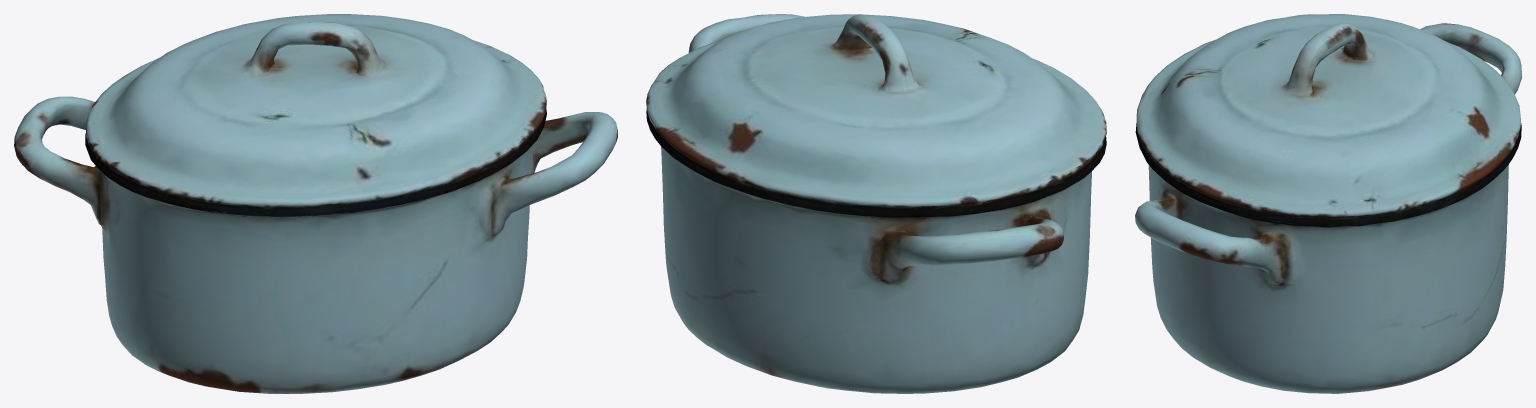
Rendered from olla.glb.
The picture shows the model from 3 angles, left to right: view 1: azimuth 30°, elevation 25°; view 2: azimuth 150°, elevation 25°; view 3: azimuth 270°, elevation 25°; orthographic projection. The views are drawn at different scales.
Parts seen in each view (by area): view 1: geometry_0; view 2: geometry_0; view 3: geometry_0.
Boxes of the visible parts, box(x1,y1,x2,y2) form: geometry_0: box(14, 14, 617, 393); geometry_0: box(646, 14, 1106, 393); geometry_0: box(1135, 14, 1521, 393).
Bounding box in the file's own units: 0.3 × 0.18 × 0.22.
Materials: 1 (1 with a texture image).
